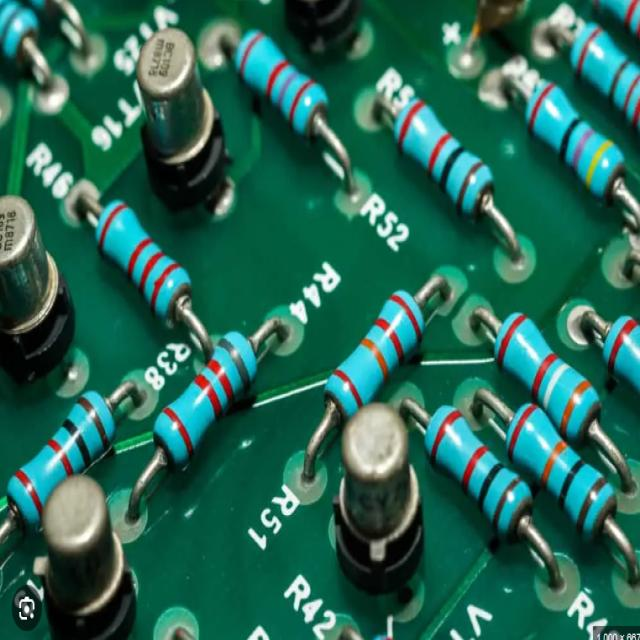resistor: (385, 71, 517, 250), (500, 367, 616, 556), (86, 176, 207, 348), (426, 394, 534, 578), (322, 265, 428, 451), (152, 329, 268, 492), (523, 66, 635, 224), (503, 309, 608, 467), (235, 28, 347, 163), (10, 386, 122, 516), (565, 12, 640, 123)
